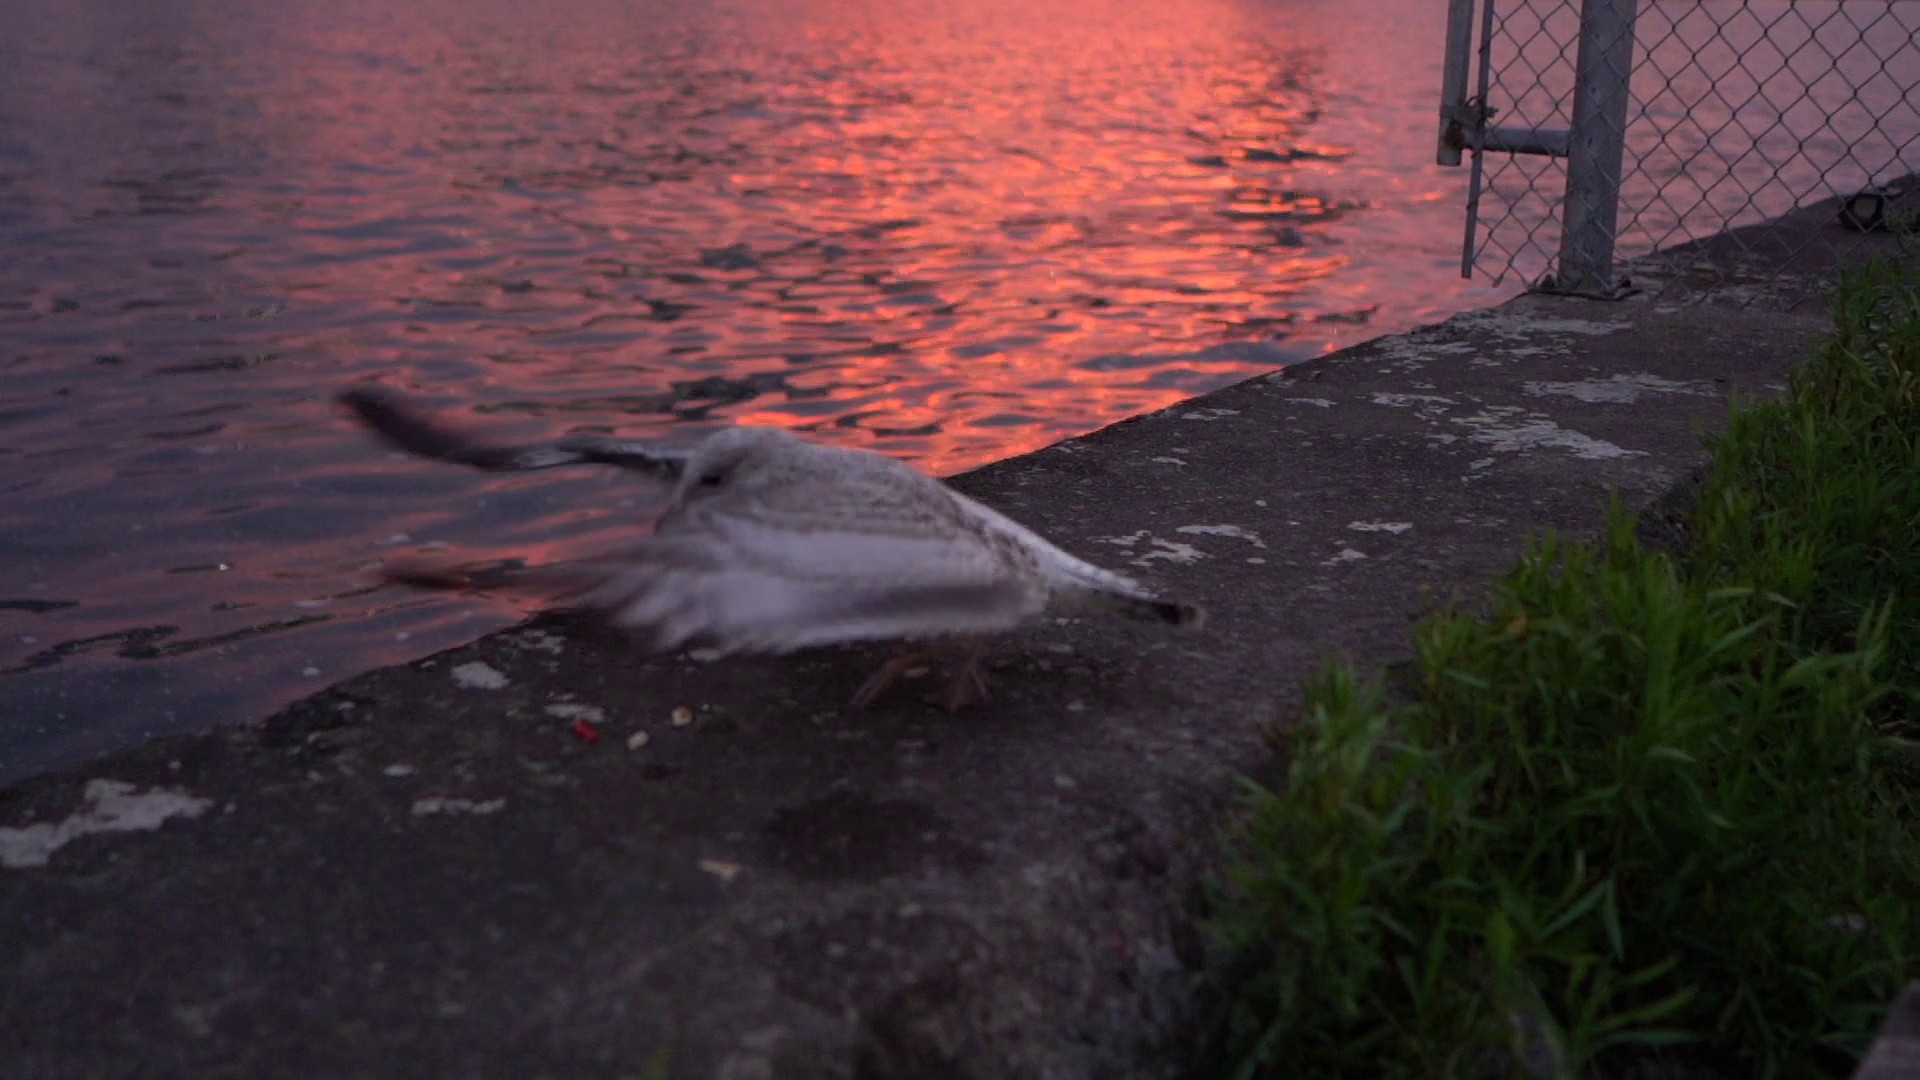bird: (340, 380, 1205, 716)
